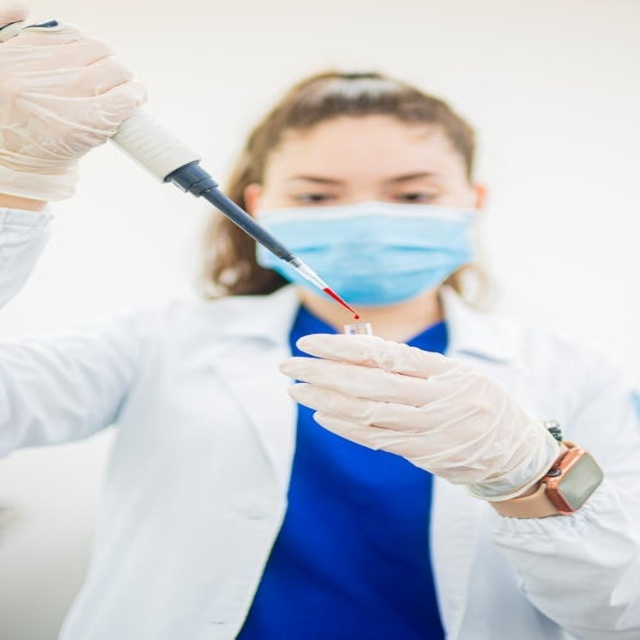Guantes: (279, 333, 562, 496), (0, 4, 145, 204)
Mascara: (252, 201, 479, 306)
Sin_gafas: (273, 166, 451, 202)
